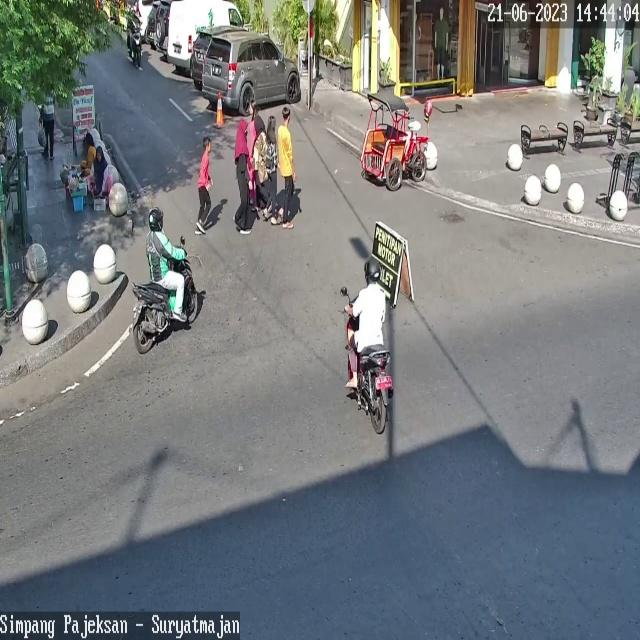bus: (134, 244, 200, 354), (346, 292, 392, 436), (132, 27, 142, 70)
motorcycle: (201, 31, 300, 116), (166, 0, 245, 67), (122, 0, 154, 36), (191, 28, 211, 82)
